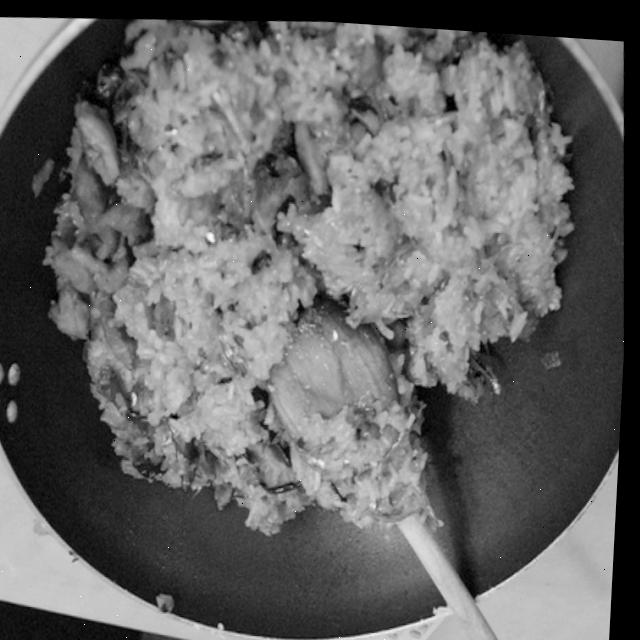米饭主食: (35, 3, 582, 538)
